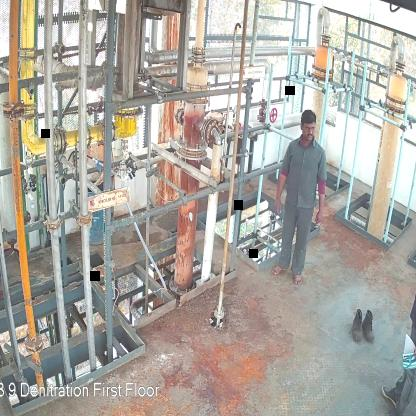no_shoes: (270, 265, 288, 275), (291, 273, 302, 288)
shoes: (350, 308, 366, 344), (363, 310, 376, 342)
